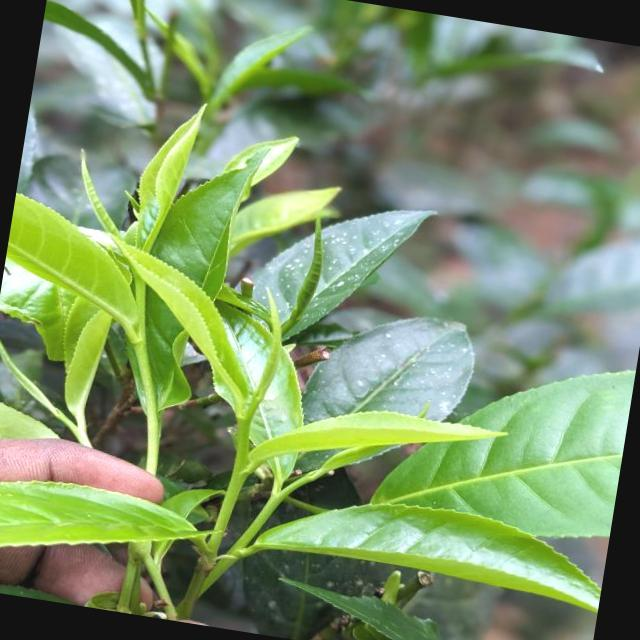Stem: (239, 419, 251, 439), (133, 336, 145, 353), (273, 494, 282, 503)
